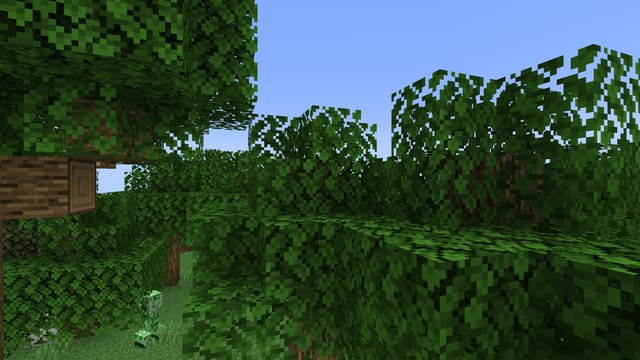creepers: (137, 287, 161, 347)
